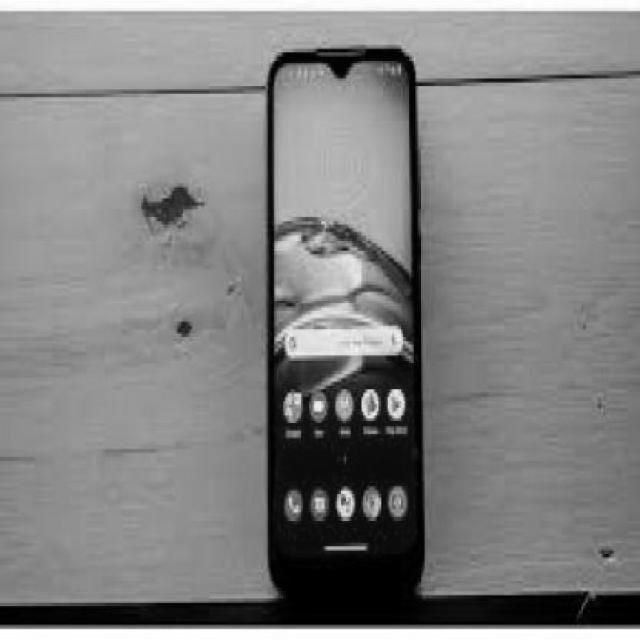fake: (268, 48, 426, 592)
